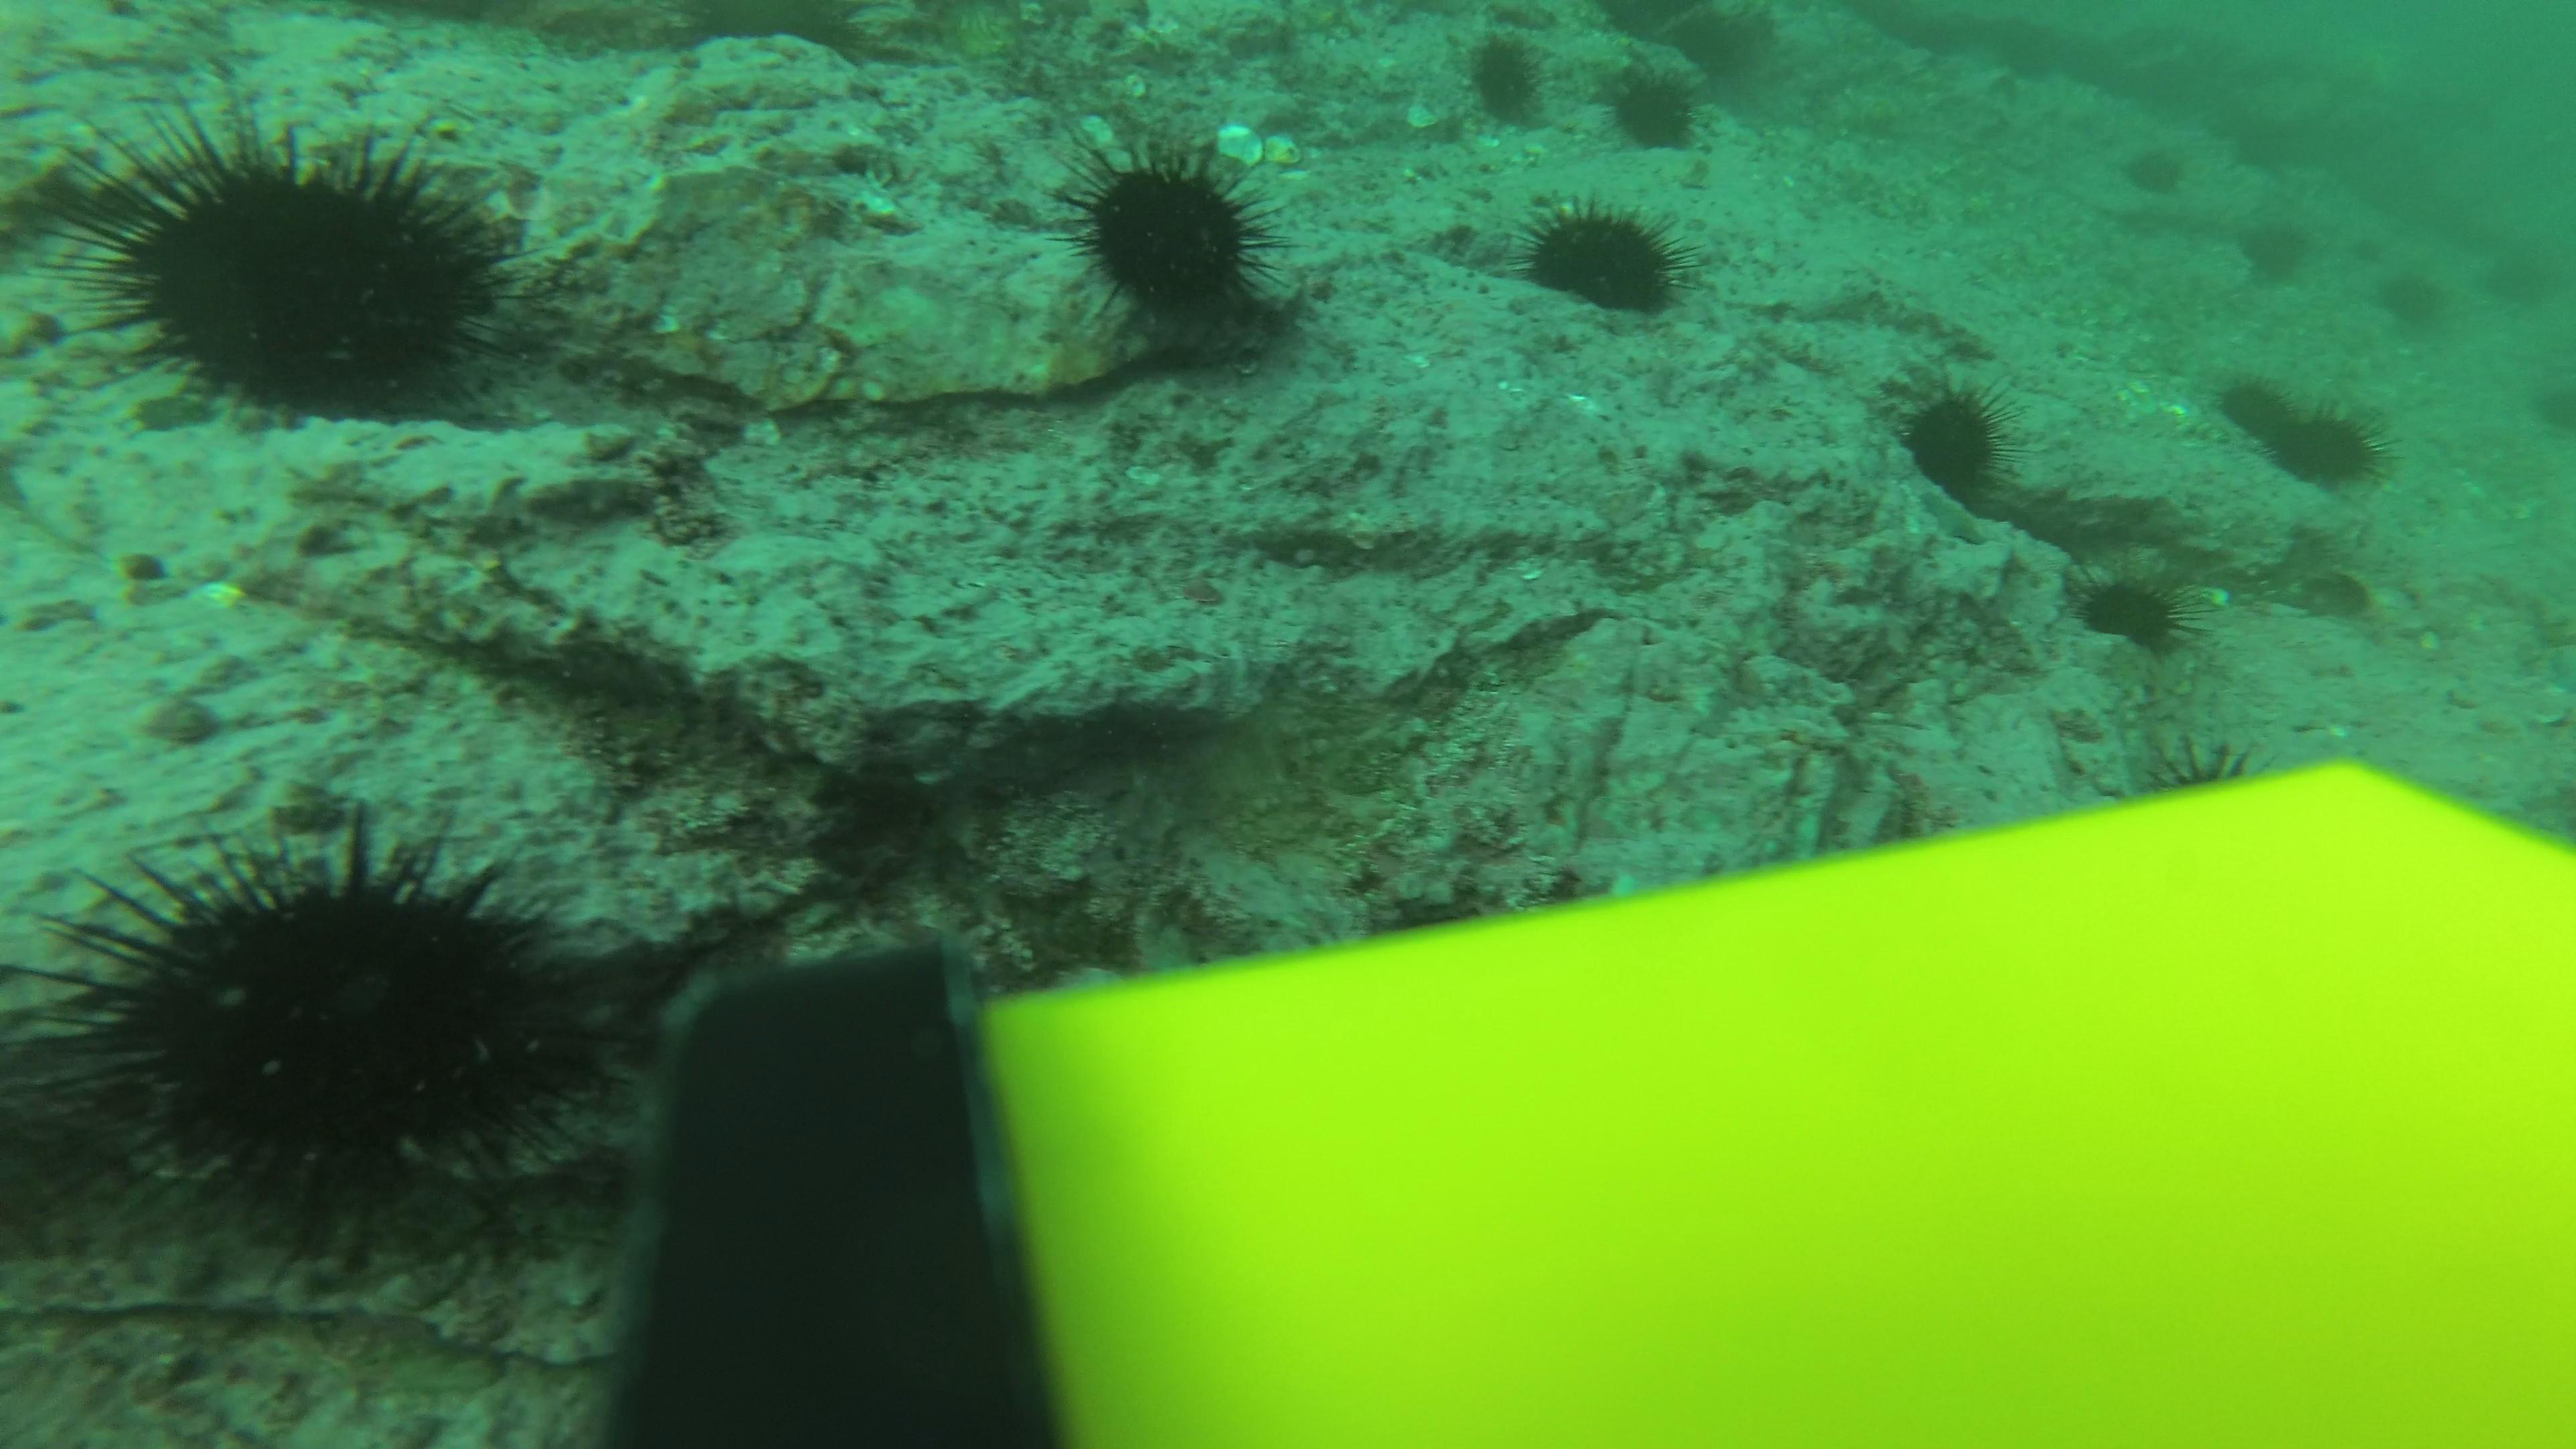urchin: (16, 830, 648, 1230), (69, 103, 591, 448), (1033, 126, 1318, 357), (1507, 195, 1707, 336), (2222, 372, 2406, 508), (1881, 366, 2024, 518), (1575, 50, 1709, 184), (1445, 25, 1575, 147), (2068, 563, 2213, 656), (2233, 214, 2289, 280)
